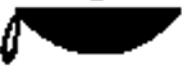Basket: (1, 3, 183, 67)
